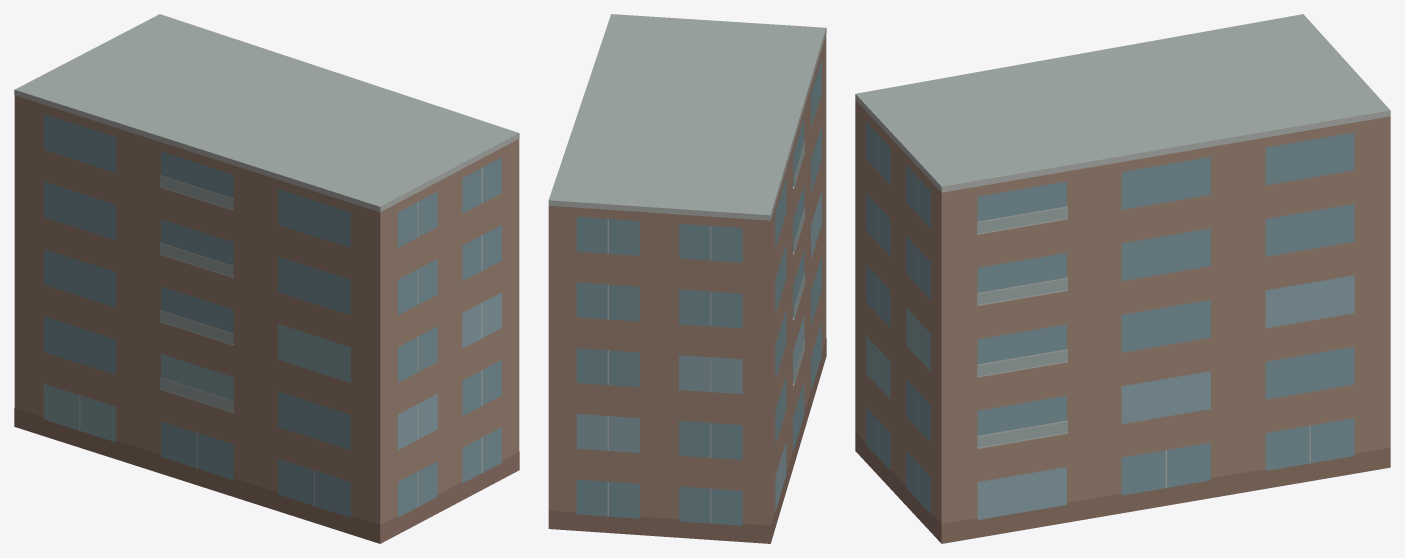
File: survey-upis-32592900.glb
The picture shows the model from 3 angles, left to right: view 1: azimuth 30°, elevation 25°; view 2: azimuth 150°, elevation 25°; view 3: azimuth 270°, elevation 25°; orthographic projection. The views are drawn at different scales.
Parts seen in each view (by area): view 1: survey-upis-32592900.tmp; view 2: survey-upis-32592900.tmp; view 3: survey-upis-32592900.tmp.
Boxes of the visible parts, bbox=[...] form: survey-upis-32592900.tmp: bbox=[14, 14, 519, 543]; survey-upis-32592900.tmp: bbox=[548, 14, 826, 543]; survey-upis-32592900.tmp: bbox=[855, 14, 1390, 543].
Bounding box in the file's own units: 15.42 × 14.85 × 20.18.
